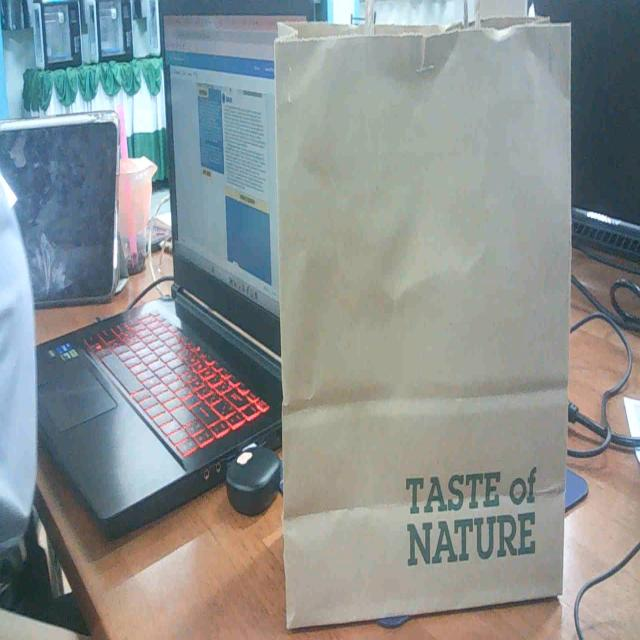bag: (256, 5, 597, 628)
